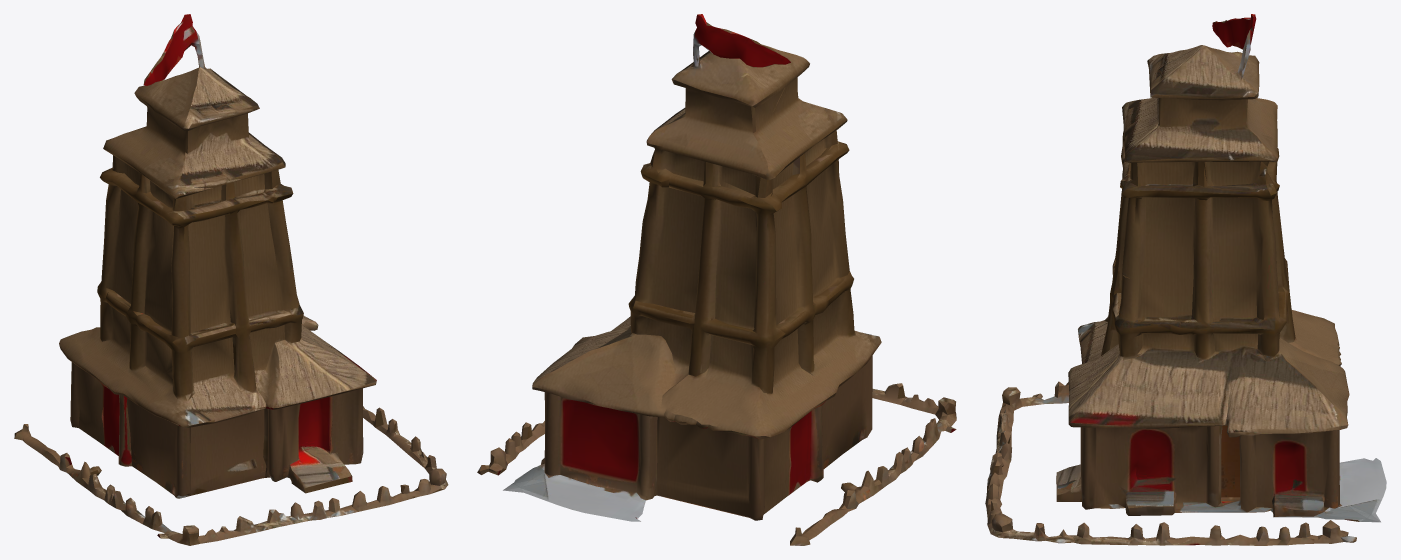
Rendered from palmares_mocambo_guerra.glb.
3 views of the same model, side by side, from view 1: azimuth 30°, elevation 25°; view 2: azimuth 150°, elevation 25°; view 3: azimuth 270°, elevation 25° (orthographic). The views are drawn at different scales.
Visible parts, largest first — view 1: geometry_0; view 2: geometry_0; view 3: geometry_0.
Boxes of the visible parts, bbox=[...] form: geometry_0: bbox=[14, 14, 448, 545]; geometry_0: bbox=[477, 14, 956, 545]; geometry_0: bbox=[985, 14, 1386, 545].
Bounding box in the file's own units: 3.09 × 4.2 × 3.4.
Materials: 1 (1 with a texture image).
